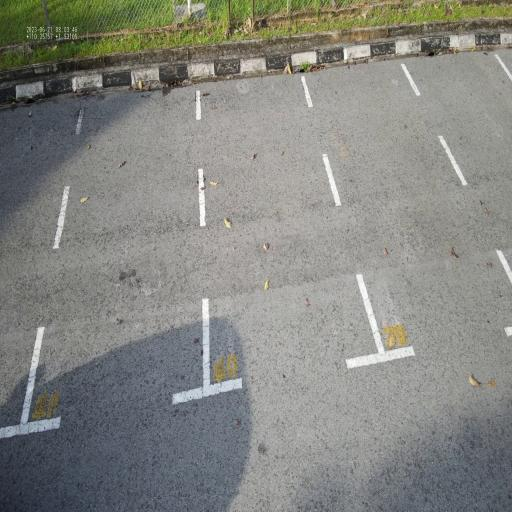Empty: (13, 69, 223, 444), (193, 68, 390, 400)
